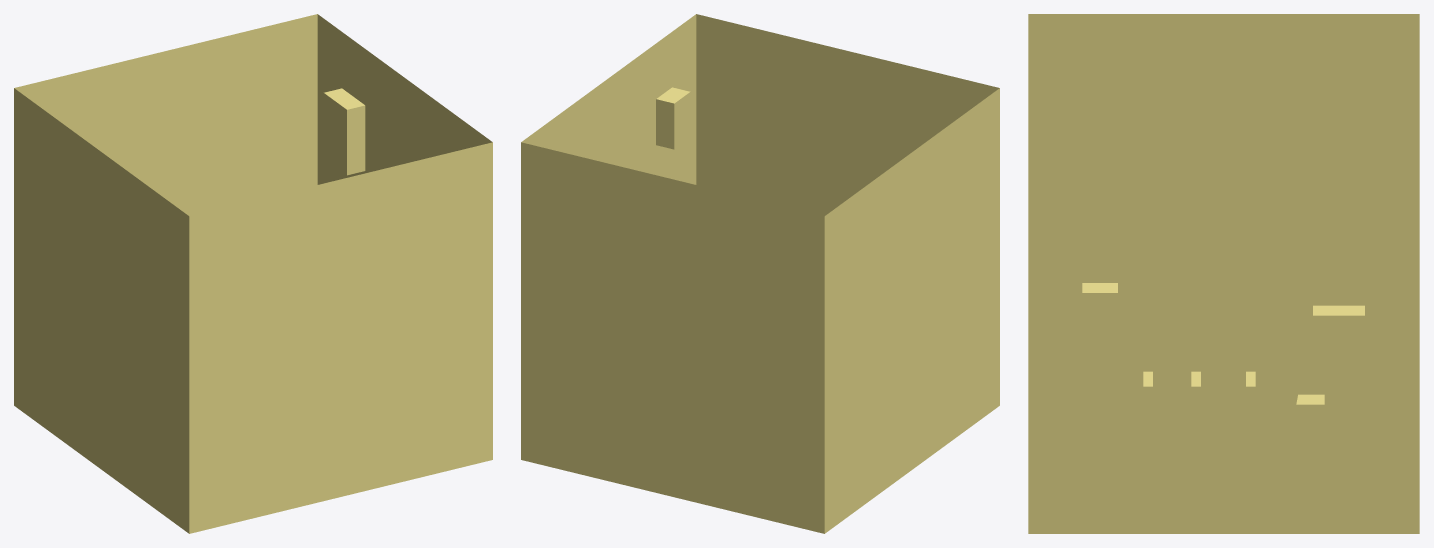
The model's file is base_poor.FBX.
3 views of the same model, side by side, from view 1: azimuth 30°, elevation 25°; view 2: azimuth 150°, elevation 25°; view 3: azimuth 270°, elevation 25° (orthographic). The views are drawn at different scales.
Visible parts, largest first — view 1: base_poor; view 2: base_poor; view 3: base_poor.
Part boxes in pixels (x1=…): base_poor: x1=14, y1=14, x2=492, y2=533; base_poor: x1=521, y1=14, x2=999, y2=533; base_poor: x1=1028, y1=14, x2=1419, y2=533.
Size of the model in its own units: 10.91 by 10 by 10.
